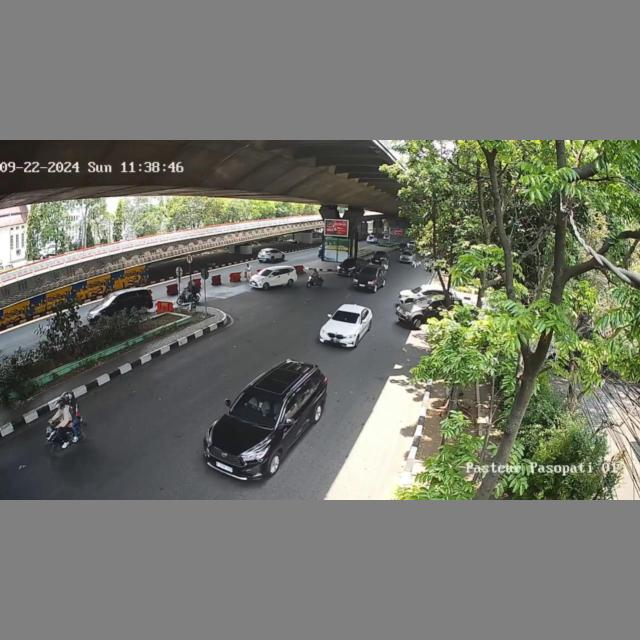windshield: (228, 388, 287, 428), (331, 308, 361, 325), (360, 266, 378, 275)
